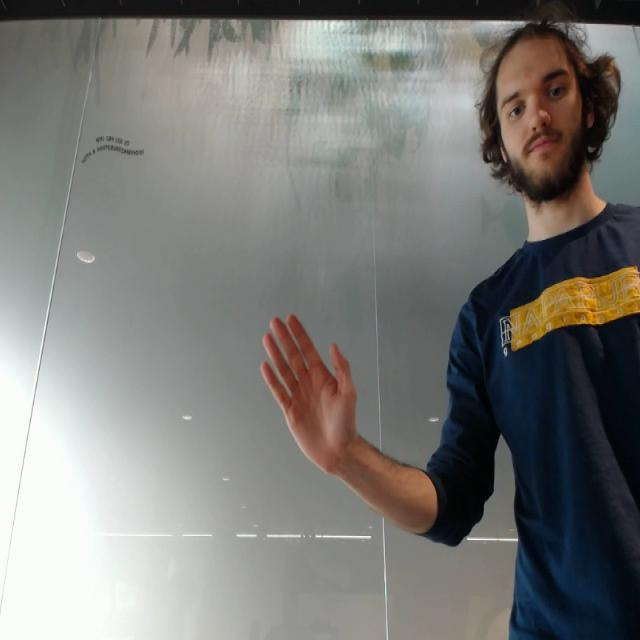backward: (254, 306, 365, 475)
